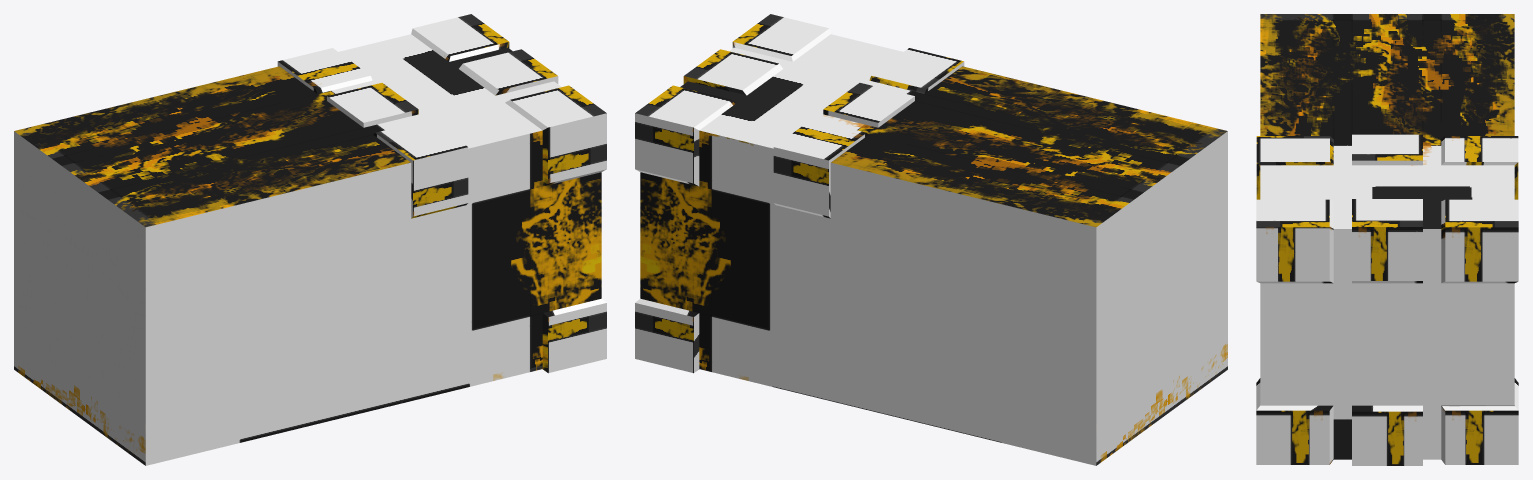
The model's file is fire_gauntlet.obj.
3 views of the same model, side by side, from view 1: azimuth 30°, elevation 25°; view 2: azimuth 150°, elevation 25°; view 3: azimuth 270°, elevation 25° (orthographic). The views are drawn at different scales.
Visible parts, largest first — view 1: Cube; view 2: Cube; view 3: Cube.
Part boxes in pixels (x1,y1,x2,y2): Cube: (14, 14, 606, 465); Cube: (635, 14, 1227, 465); Cube: (1256, 14, 1518, 465).
Size of the model in its own units: 1.01 by 0.5194 by 0.5149.
